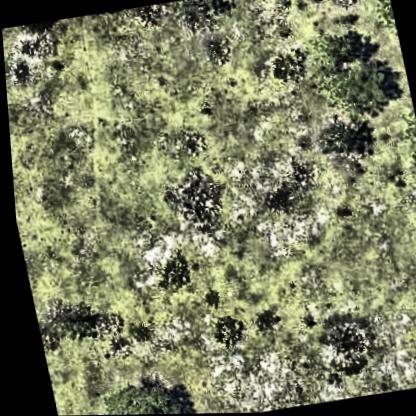tree-top: (303, 24, 398, 121), (305, 310, 373, 373), (93, 378, 188, 415), (312, 110, 374, 166)
